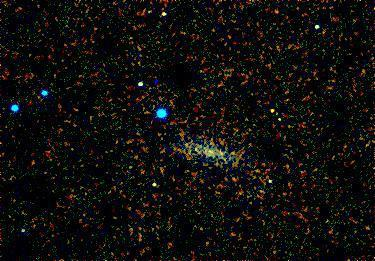star: (257, 96, 287, 126)
